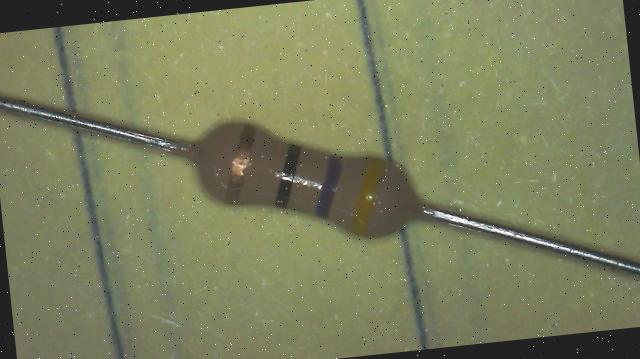black: (268, 143, 308, 208)
gold: (220, 123, 263, 202)
resistor: (175, 102, 434, 258)
violet: (310, 155, 348, 220)
yellow: (344, 157, 391, 236)
